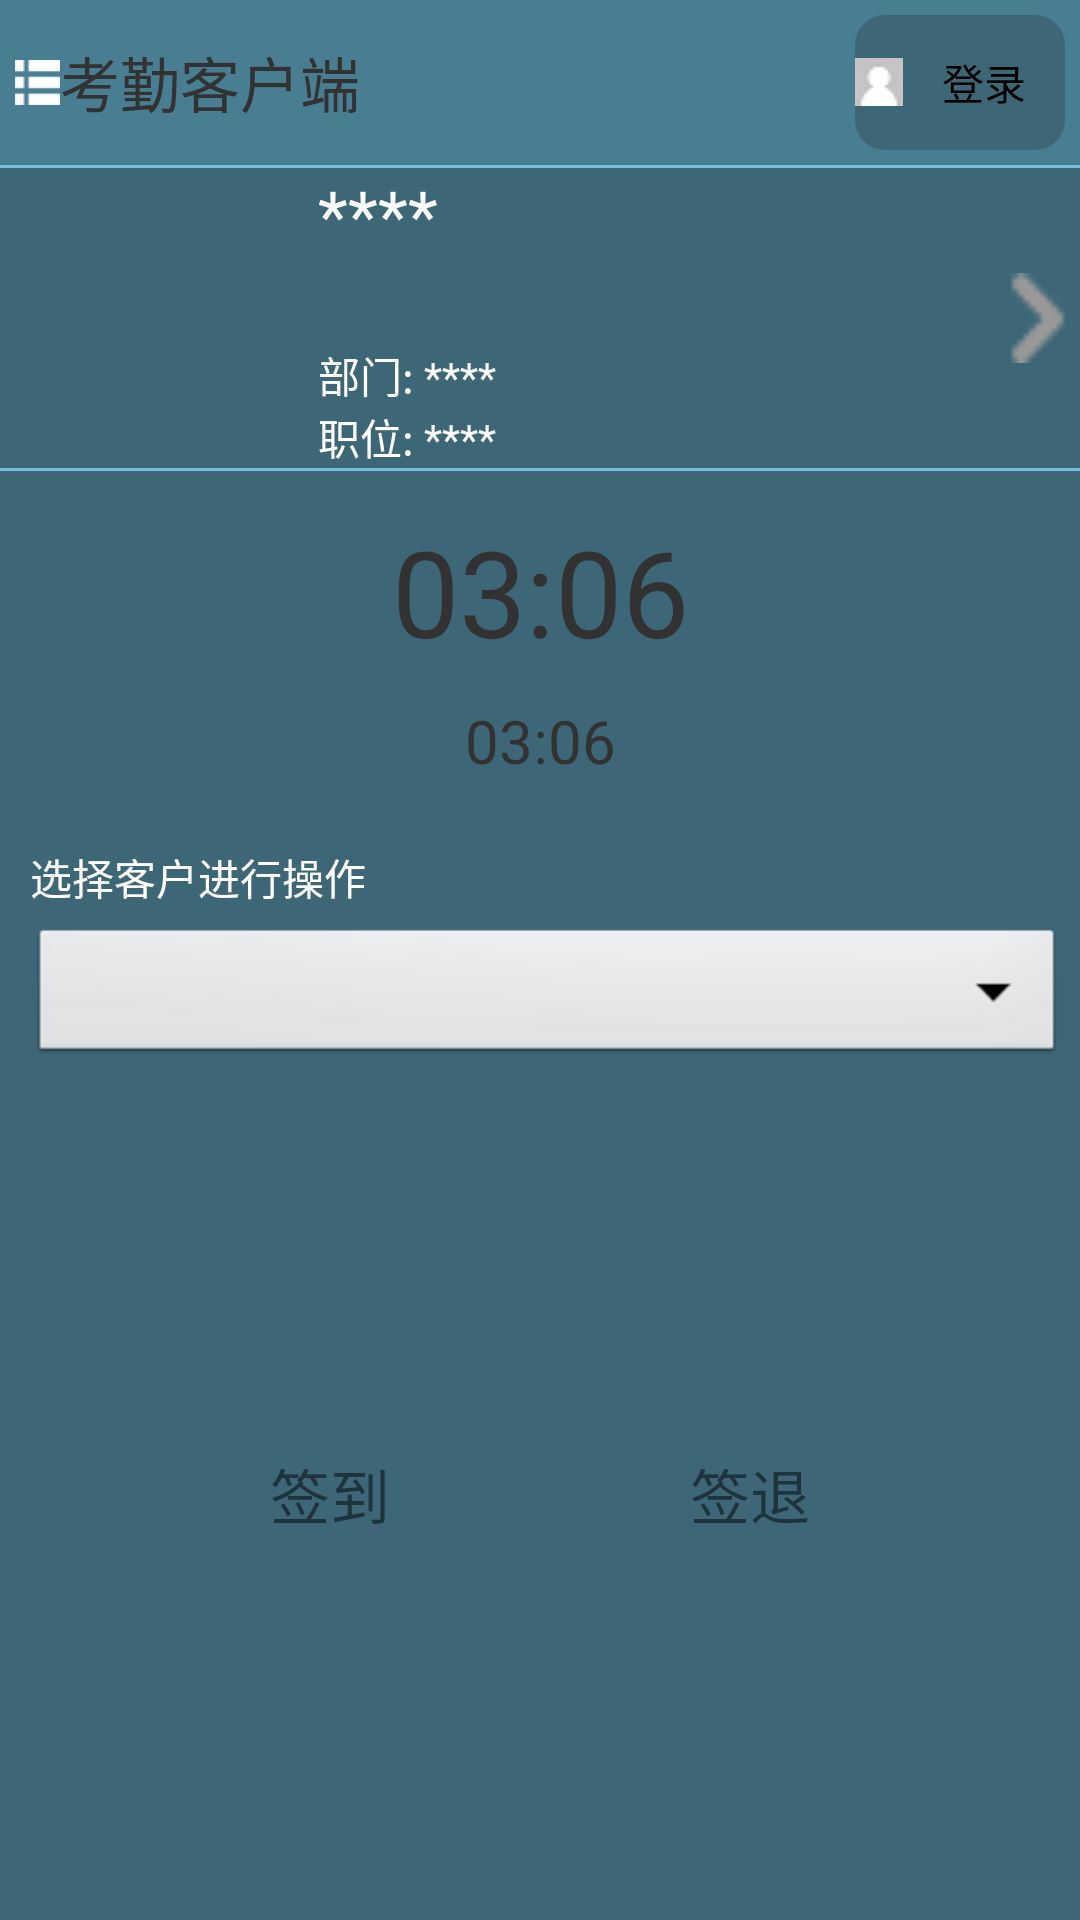

Icons on this 1080 x 1920 Android screen, each with the point to tap as [x,y]:
list: [37,82]
right: [1037,318]
